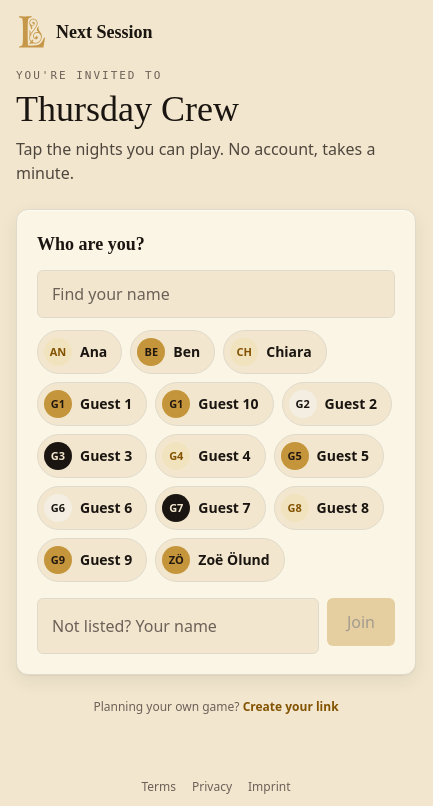
Test case: Join › with a long Roster › narrows the chips as the Player types, ignoring case and accents
Type "ZOE OL" into the search field labelled "Find your name" at (216, 294), box [37,270,395,318]
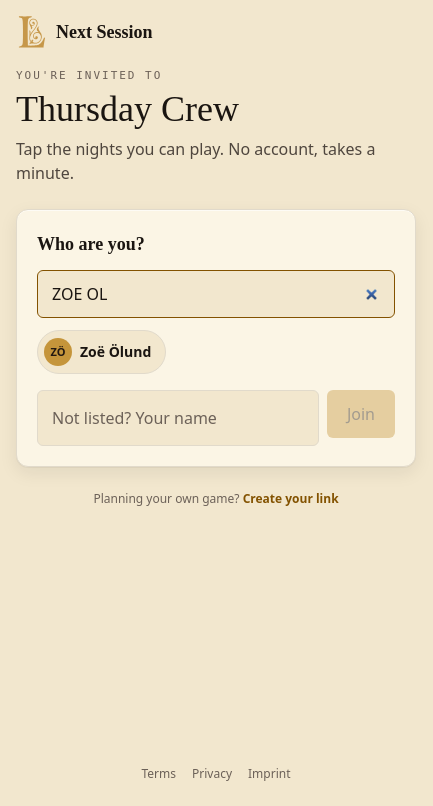
Check: the number of list items is 1, box [37,330,166,374]
